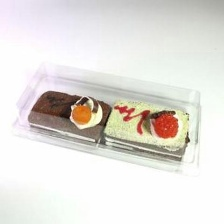plastic_box: (2, 51, 211, 185)
